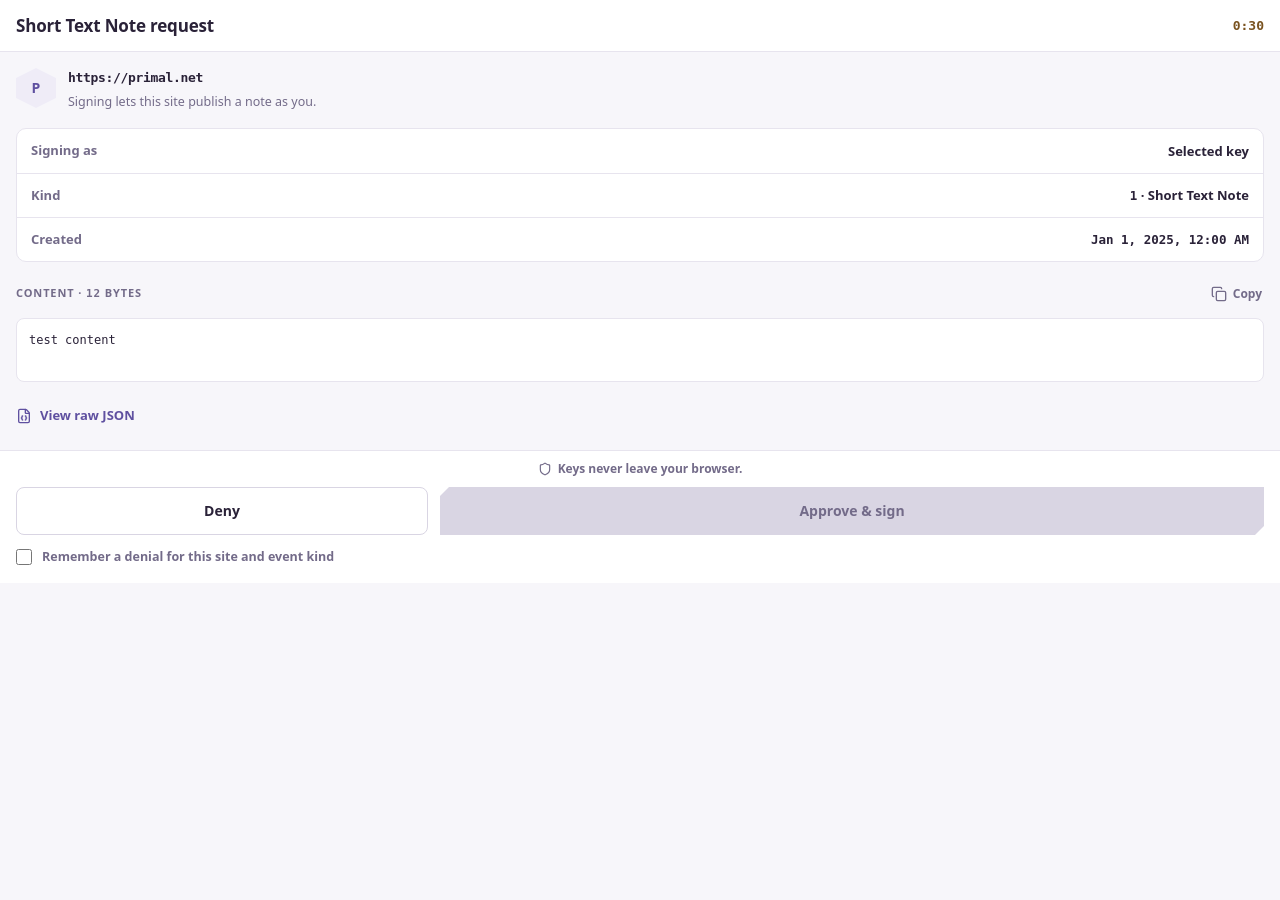
Test: EventDetailView payload sections › highlights literals in the raw envelope
Click the button "View raw JSON" at (75, 416), box [16,398,135,434]
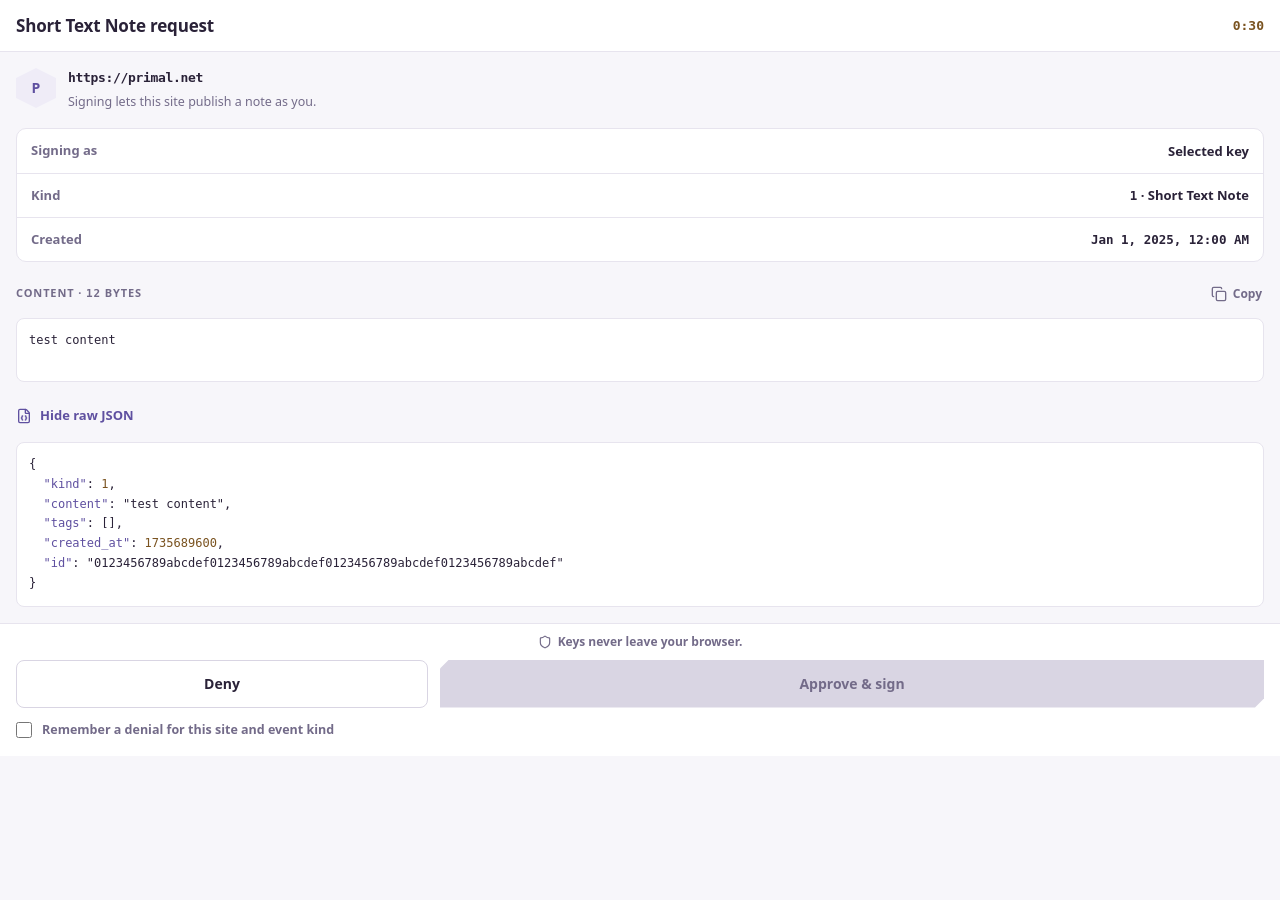
Expected: the text "1" next to "\"kind\"" is shown, [101,477,108,491]
